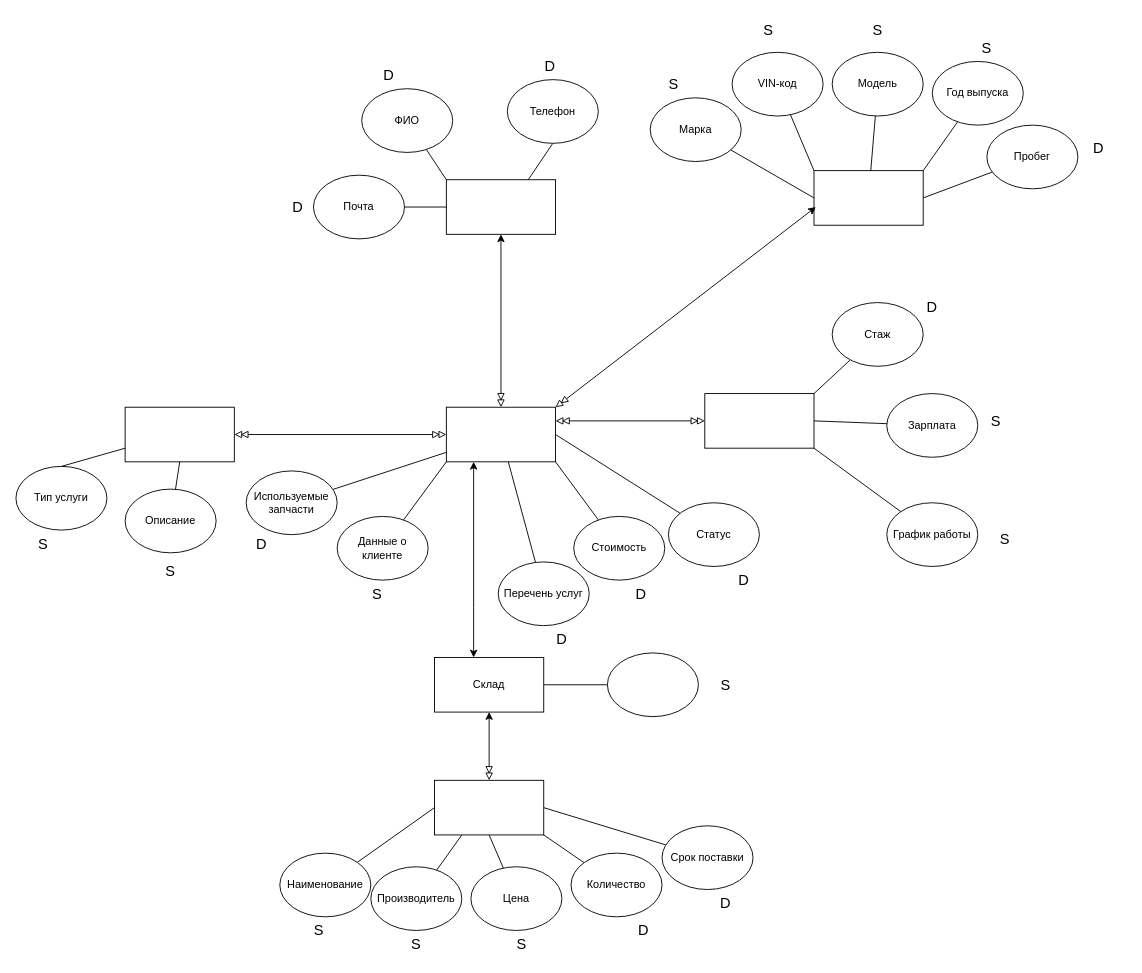
Some shapes in this 1142 by 973 pixel diagram are drawn without their labels. Each missing label, with the centre of its shape:
Автомобиль: (x=868, y=197)
Вместимость: (x=652, y=684)
Запчасти: (x=489, y=807)
Заявка: (x=500, y=434)
Клиент: (x=500, y=206)
Сотрудники: (x=759, y=420)
Услуги: (x=179, y=434)
